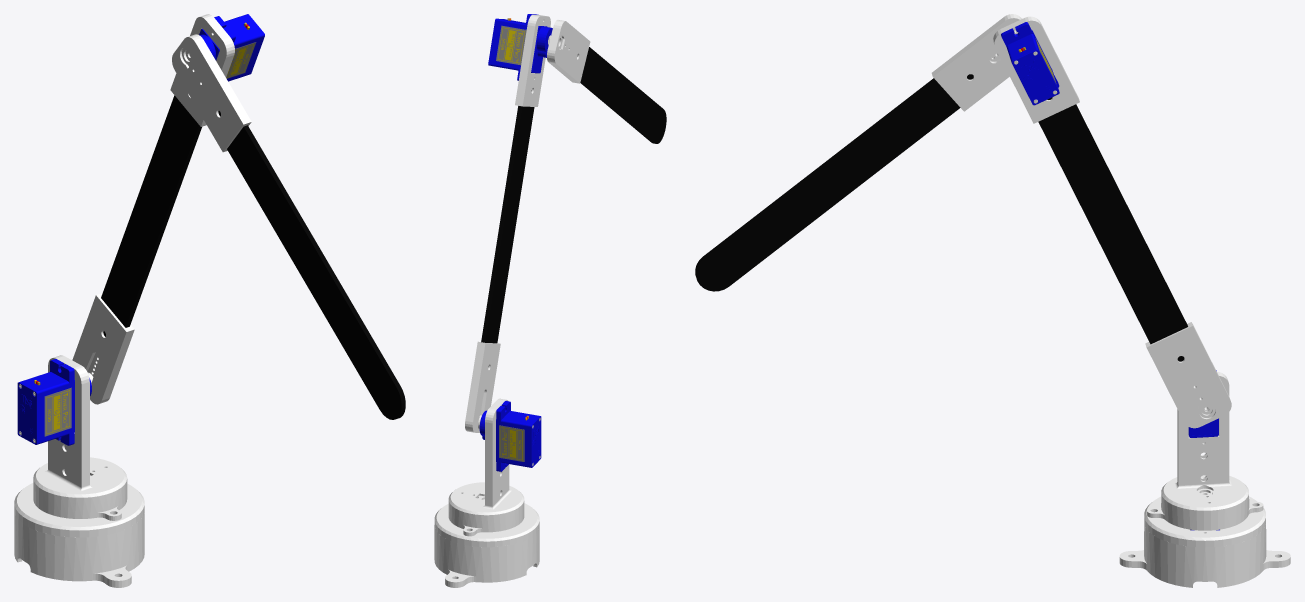
The model's file is robotarm-web.glb.
3 renders of one model, left to right at view 1: azimuth 30°, elevation 25°; view 2: azimuth 150°, elevation 25°; view 3: azimuth 270°, elevation 25°, orthographic. The views are drawn at different scales.
Visible parts, largest first — view 1: ABS(흰색), 소나무, Opaque(0,0,255), Opaque(64,64,64), Opaque(165,132,0); view 2: ABS(흰색), 소나무, Opaque(0,0,255), Opaque(64,64,64), Opaque(165,132,0); view 3: ABS(흰색), 소나무, Opaque(0,0,255).
Part boxes in pixels (x1,y1,x2,y2): ABS(흰색): (14,14,251,587); 소나무: (101,95,405,419); Opaque(0,0,255): (17,14,264,445); Opaque(64,64,64): (44,42,256,436); Opaque(165,132,0): (46,44,253,434); ABS(흰색): (434,15,590,587); 소나무: (481,47,666,366); Opaque(0,0,255): (479,14,552,471); Opaque(64,64,64): (496,25,526,461); Opaque(165,132,0): (497,27,524,460); ABS(흰색): (931,14,1290,587); 소나무: (695,74,1187,361); Opaque(0,0,255): (1001,22,1219,530).
Bounding box in the file's own units: 0.4941 × 2 × 1.93.
